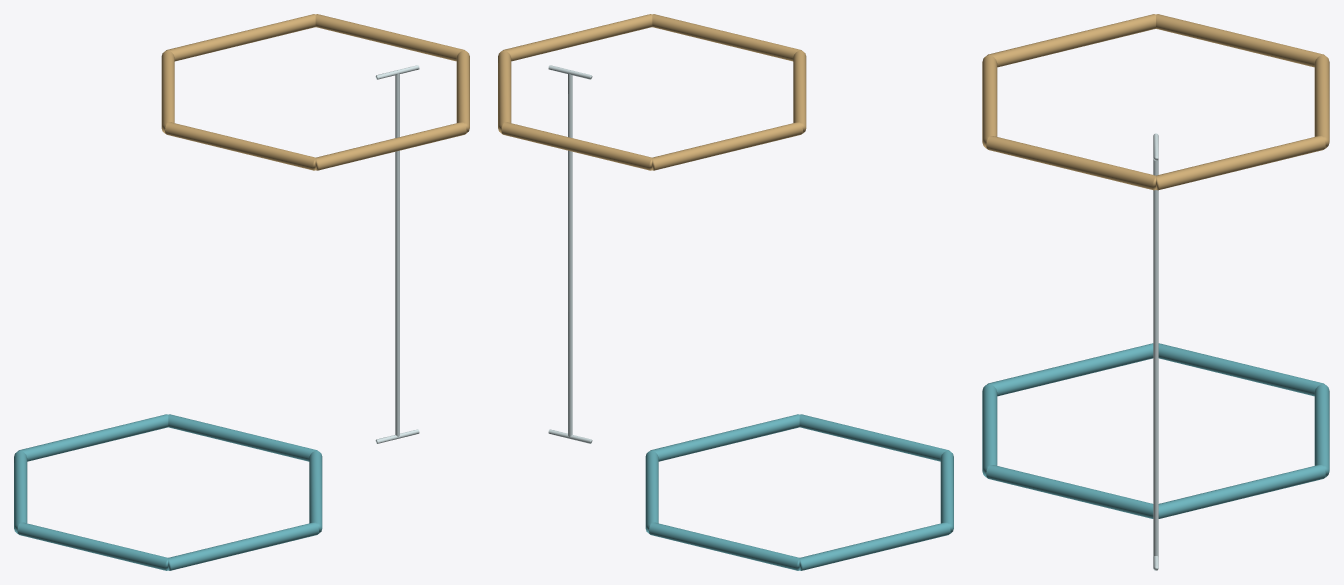
Rendered from cod-9011577-graphene-spacing.glb.
3 views of the same model, side by side, from view 1: azimuth 30°, elevation 25°; view 2: azimuth 150°, elevation 25°; view 3: azimuth 270°, elevation 25° (orthographic). The views are drawn at different scales.
Parts seen in each view (by area): view 1: AB-stacked hexagonal windows, Layer-plane separation; view 2: AB-stacked hexagonal windows, Layer-plane separation; view 3: AB-stacked hexagonal windows, Layer-plane separation.
Boxes of the visible parts, x1=… form: AB-stacked hexagonal windows: x1=14, y1=14, x2=469, y2=570; Layer-plane separation: x1=395, y1=73, x2=399, y2=437; AB-stacked hexagonal windows: x1=498, y1=14, x2=953, y2=570; Layer-plane separation: x1=568, y1=73, x2=572, y2=437; AB-stacked hexagonal windows: x1=982, y1=14, x2=1329, y2=518; Layer-plane separation: x1=1153, y1=159, x2=1158, y2=556.
Bounding box in the file's own units: 0.4363 × 0.3465 × 0.2574.
